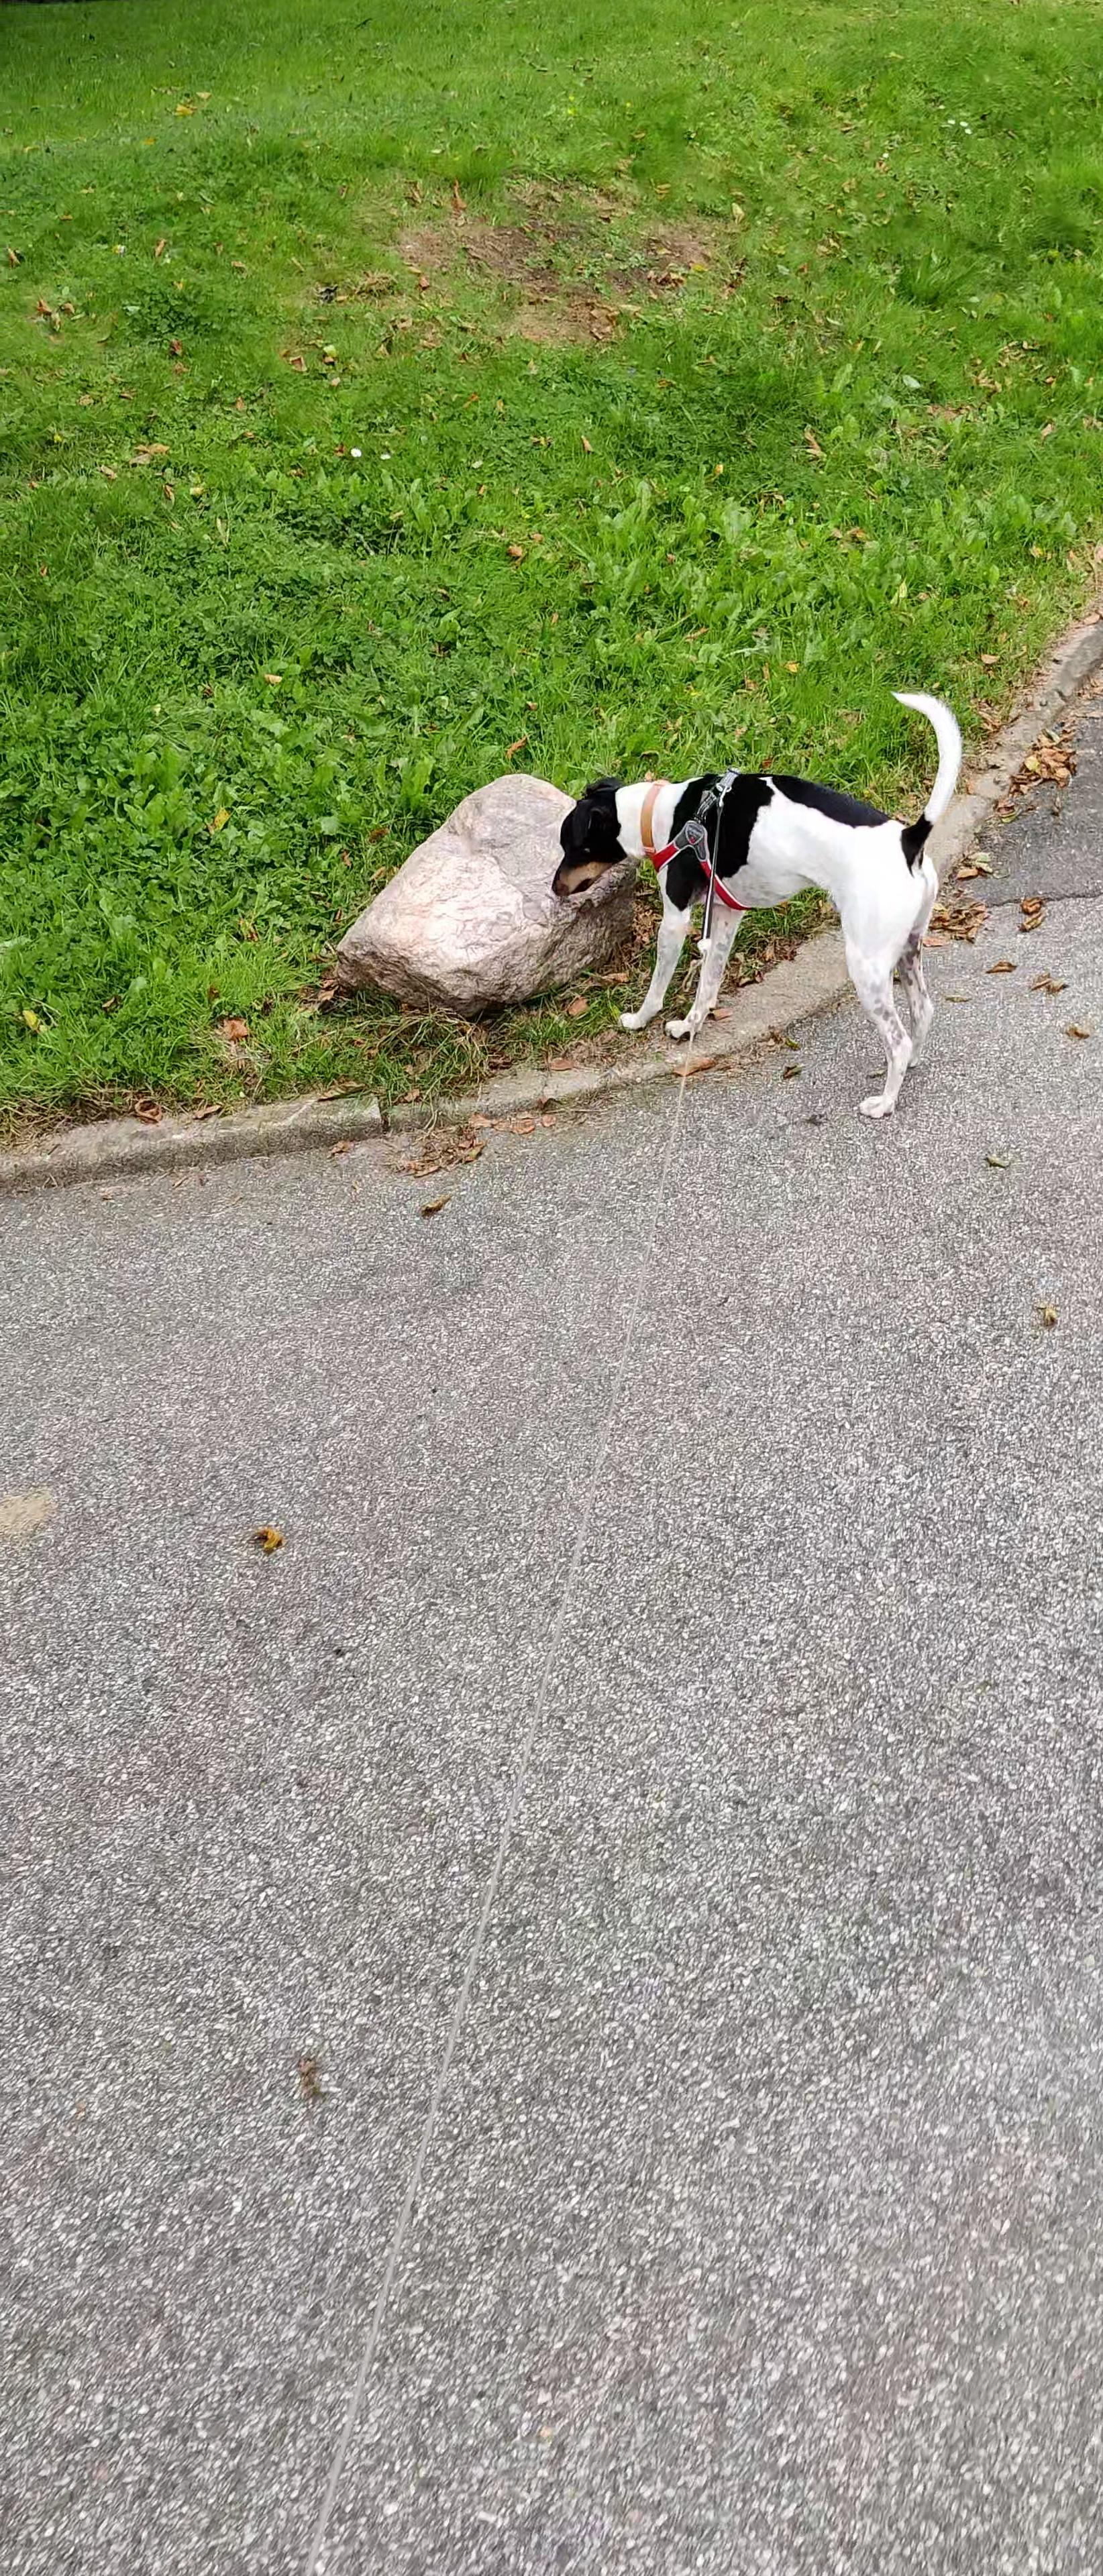Dog: (536, 665, 975, 1122)
